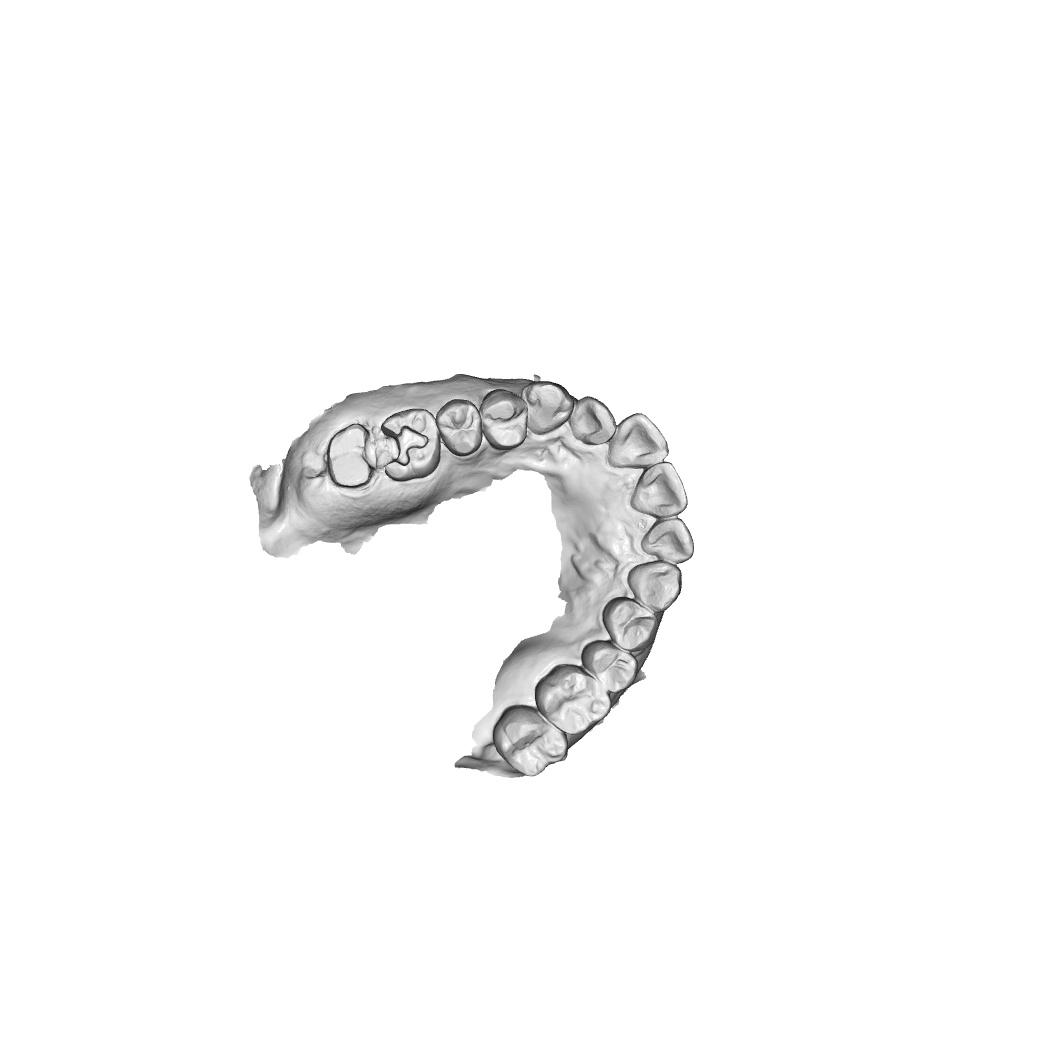canine: (626, 560, 684, 614), (521, 378, 573, 437)
crown: (322, 420, 377, 490)
incisor: (605, 410, 671, 472), (627, 460, 691, 519), (639, 517, 696, 568), (568, 393, 618, 445)
inlay: (378, 423, 432, 472)
molar: (531, 662, 613, 738), (491, 703, 571, 779)
premolar: (601, 595, 660, 653), (579, 639, 640, 694), (479, 387, 529, 453), (434, 397, 481, 459)
